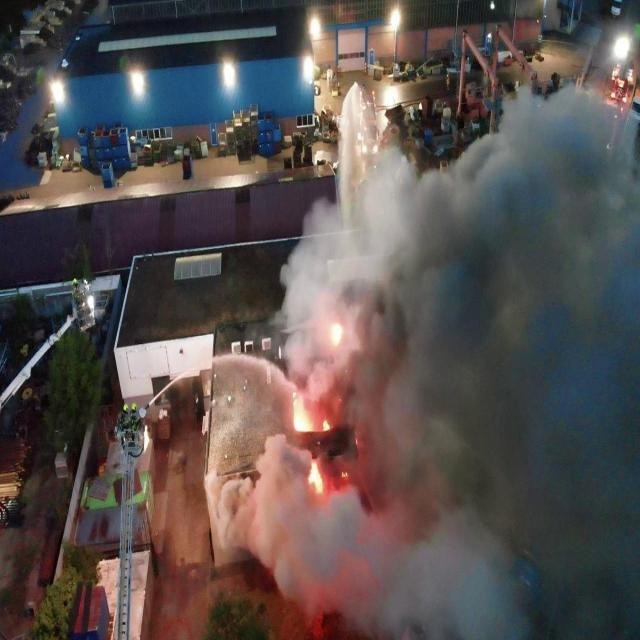Fire: (292, 392, 312, 431), (308, 461, 322, 492), (330, 323, 342, 345), (322, 421, 330, 432), (342, 472, 348, 477)
Smoke: (204, 81, 640, 640)
